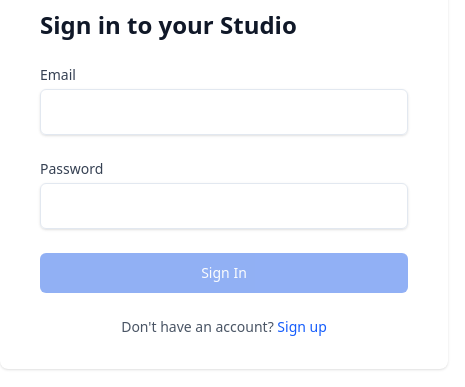
LoginPage › Form Validation › enables submit when email and password are filled
The image size is (465, 387).
In the field labelled "Email": (224,112) [40,89,408,135], type "test@studio.com"
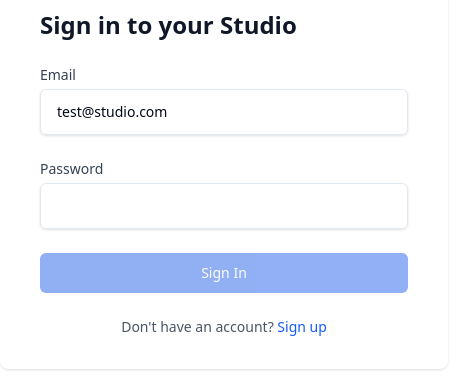
In the password field labelled "Password": (224,206) [40,183,408,229], type "password123"
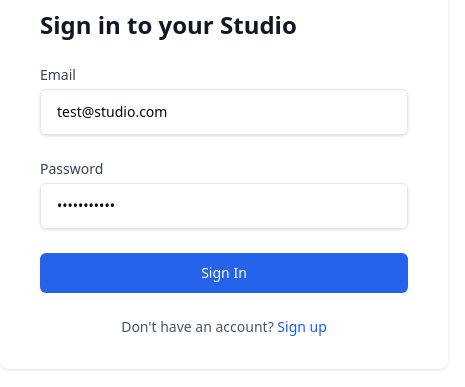
Check: the button "Sign In" is enabled, box [40,253,408,293]
